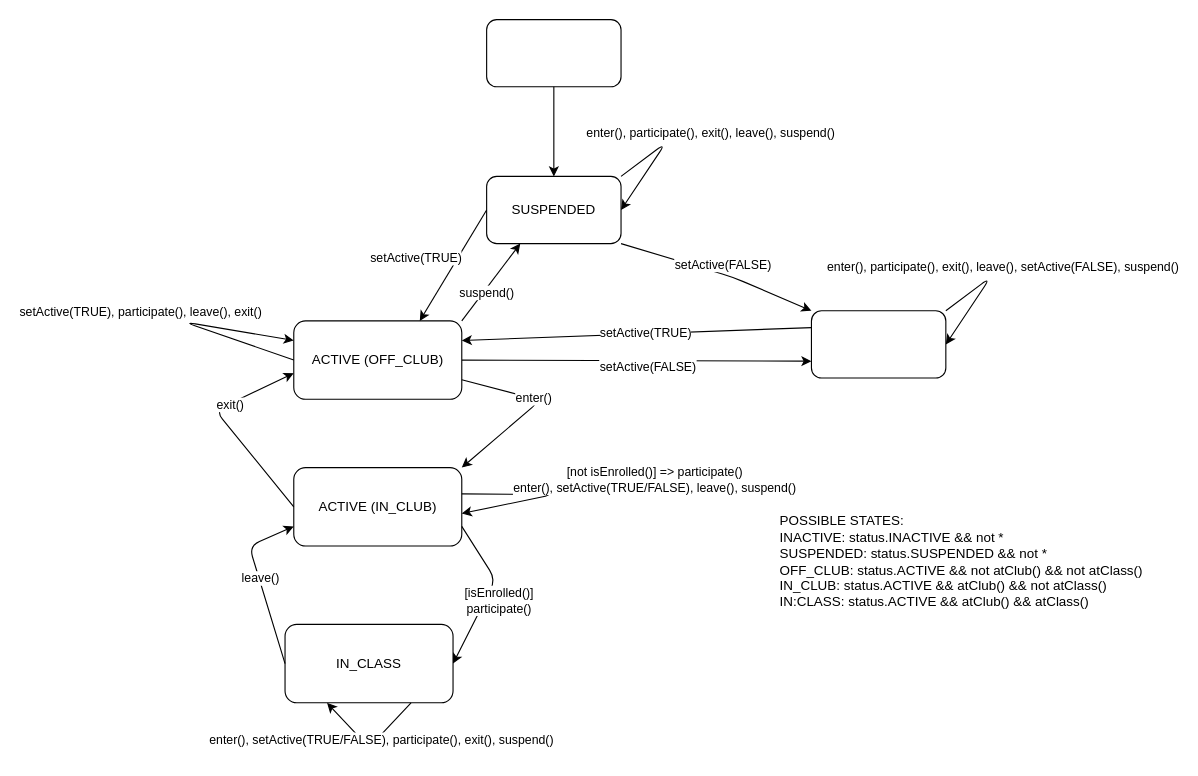
Image size: 1198x776. Some labels were removed from this diagram. The centre of each missing label's shape, as x and y in pixels:
INACTIVE: [878,344]
INIT: [553,52]
